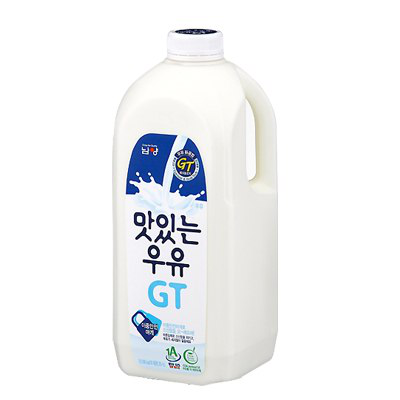milk: (112, 27, 279, 386)
